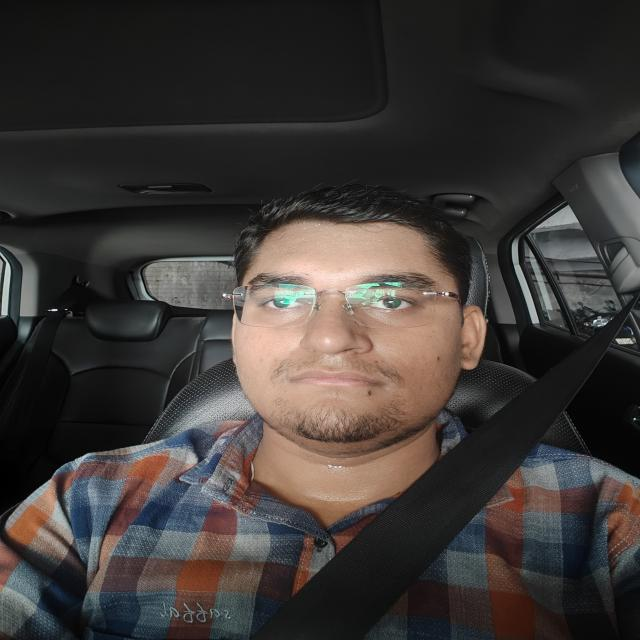seatbelt: (250, 274, 640, 640)
